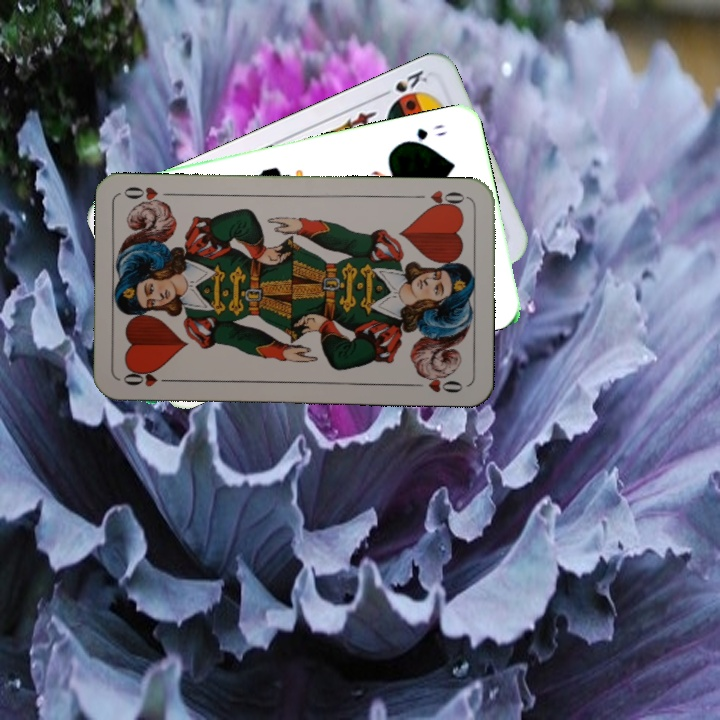GO: (398, 120, 450, 148)
HO: (410, 186, 469, 212), (119, 366, 177, 389)
SK: (375, 66, 430, 108)
